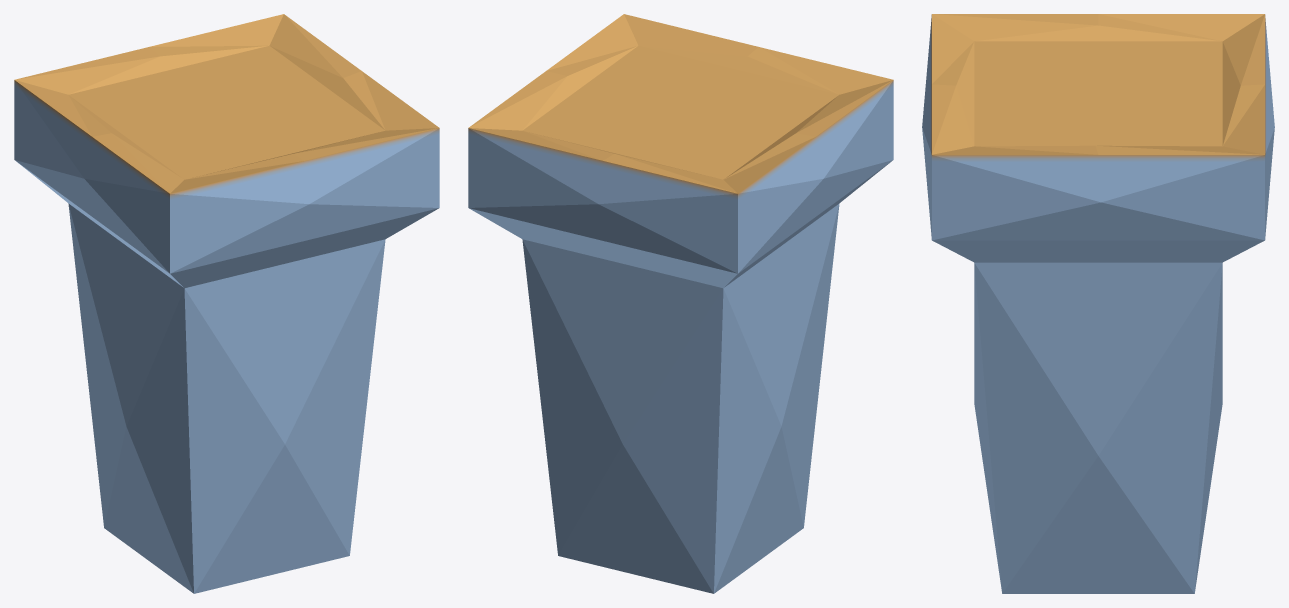
The model's file is vPedistal_New.fbx.
3 renders of one model, left to right at view 1: azimuth 30°, elevation 25°; view 2: azimuth 150°, elevation 25°; view 3: azimuth 270°, elevation 25°, orthographic. The views are drawn at different scales.
Visible parts, largest first — view 1: pCube61; view 2: pCube61; view 3: pCube61.
Boxes of the visible parts, box(x1,y1,x2,y2) form: pCube61: box(14, 14, 439, 593); pCube61: box(468, 14, 893, 593); pCube61: box(922, 14, 1274, 593).
Size of the model in its own units: 1.92 by 2.81 by 1.92.
